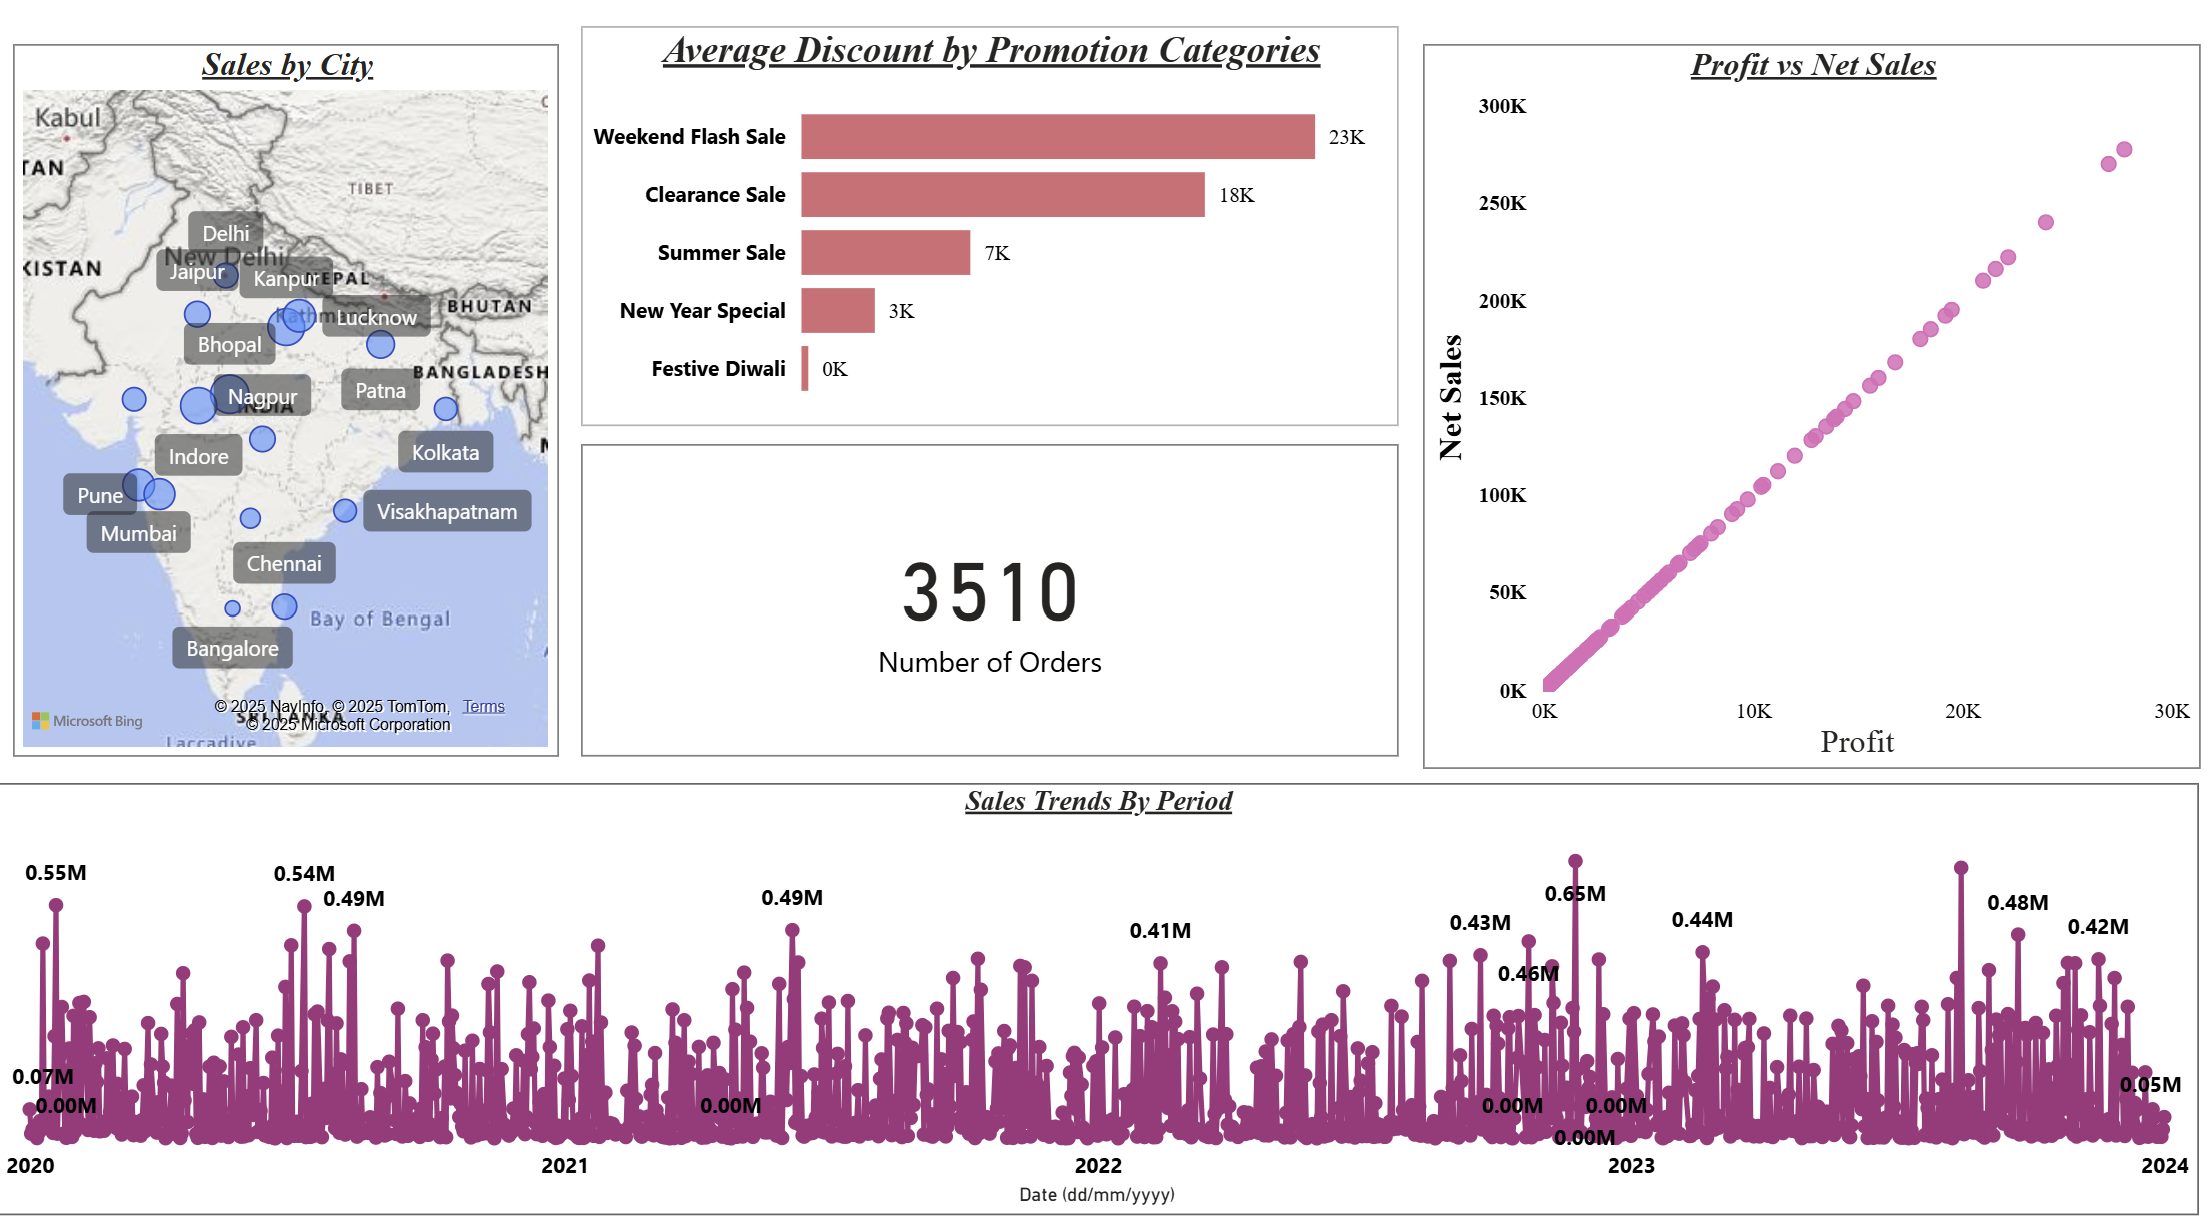

The page's visual inventory and layout, read from the dashboard file:
{"tool":"powerbi","page":{"name":"Overview","canvas":[1280,720],"ordinal":0},"visuals":[{"type":"lineChart","title":"Sales Trends By Period","fields":{"Y":["Sum(Fact Table.Net Sales  )"],"Category":["Fact Table.Date (dd/mm/yyyy).Variation.Date Hierarchy.Year"]},"box":[10.7,439.4,1269.3,280.2],"z":0},{"type":"scatterChart","title":"Profit vs Net Sales","fields":{"X":["Fact Table.Profit"],"Y":["Fact Table.Net Sales  "]},"box":[823.7,21.4,457.8,418],"z":1000},{"type":"barChart","title":"Average Discount by Promotion Categories","fields":{"Y":["Avg(Fact Table.Discount)"],"Category":["Dim Promotion.Promotion Name"]},"box":[324.6,21.4,500.7,199],"z":2000},{"type":"map","title":"Sales by City","fields":{"Category":["Dim Customers.City"],"Size":["Sum(Fact Table.Net Sales  )"]},"box":[10.7,21.4,313.9,410.3],"z":3000},{"type":"card","fields":{"Values":["Count(Fact Table.Order ID)"]},"box":[324.6,237.3,499.1,194.4],"z":4000}]}

Visuals, with their boxes in screenshot pixels (x1, y1, x2, y2), scaled from the page's 1280x720 canvas onto the 2208x1228 screenshot:
"Sales Trends By Period" lineChart: {"x1": 18, "y1": 749, "x2": 2207, "y2": 1227}
"Profit vs Net Sales" scatterChart: {"x1": 1421, "y1": 36, "x2": 2207, "y2": 749}
"Average Discount by Promotion Categories" barChart: {"x1": 560, "y1": 36, "x2": 1424, "y2": 376}
"Sales by City" map: {"x1": 18, "y1": 36, "x2": 560, "y2": 736}
card - Count(Fact Table.Order ID): {"x1": 560, "y1": 405, "x2": 1421, "y2": 736}
